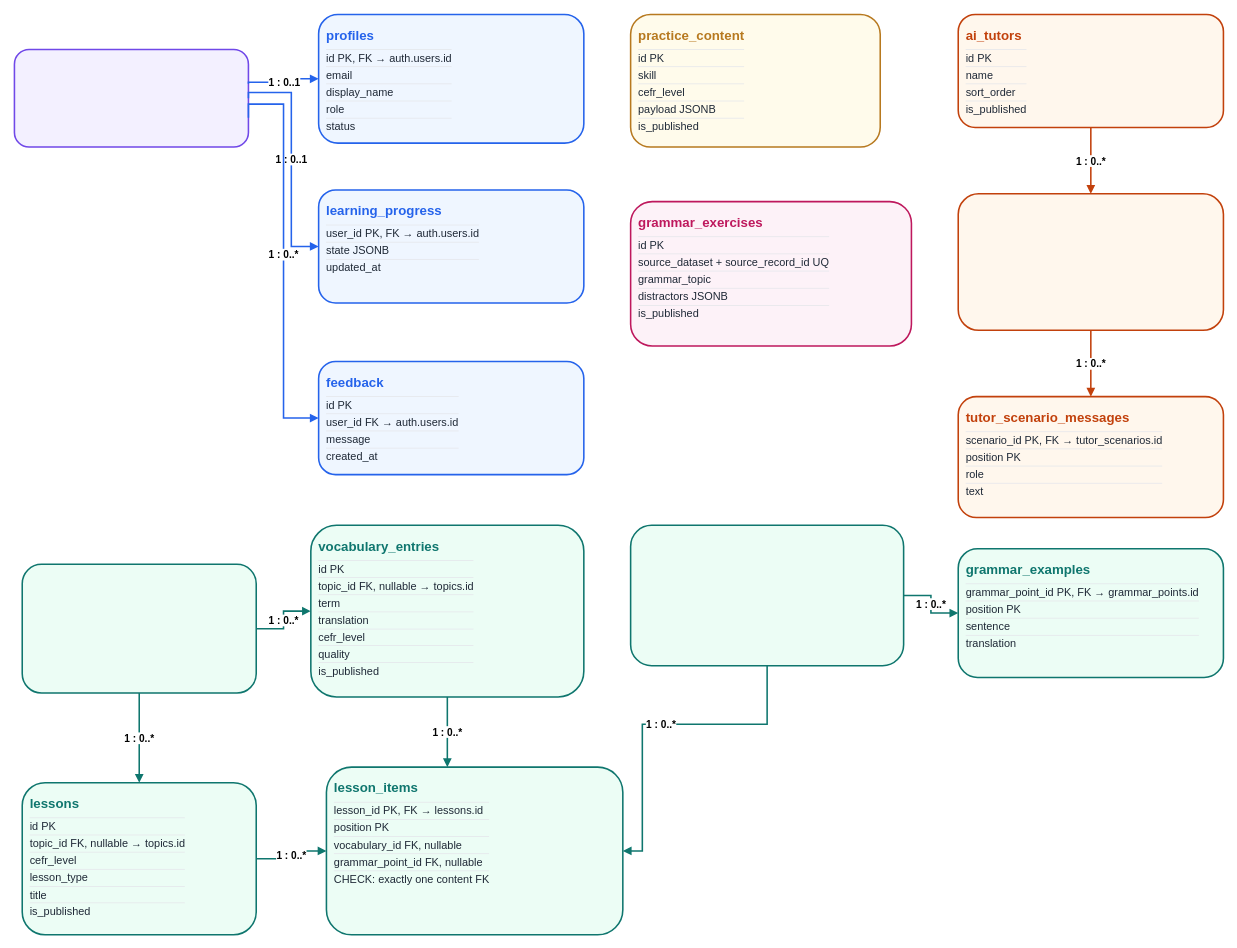
This 1237x948 diagram has some shape labels left out. Here are the shapes that lost their labels. From the top down, the box of each, then its label:
(13, 48, 249, 147): auth.users id PK email raw_user_meta_data
(957, 193, 1224, 331): tutor_scenarios id PK tutor_id FK → ai_tutors.id title level is_published
(629, 524, 904, 666): grammar_points id PK cefr_level category title is_published
(21, 563, 257, 693): topics id PK title cefr_level sort_order is_published
